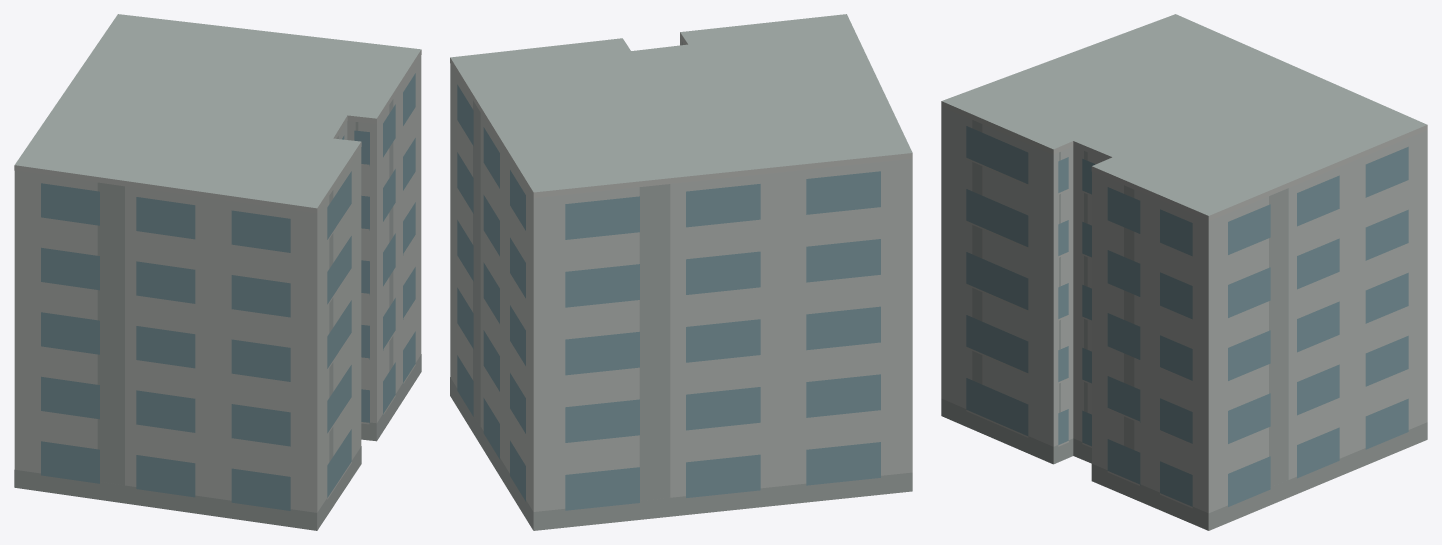
Rendered from survey-upis-32884482.glb.
The picture shows the model from 3 angles, left to right: view 1: azimuth 30°, elevation 25°; view 2: azimuth 150°, elevation 25°; view 3: azimuth 270°, elevation 25°; orthographic projection. The views are drawn at different scales.
Visible parts, largest first — view 1: survey-upis-32884482.tmp; view 2: survey-upis-32884482.tmp; view 3: survey-upis-32884482.tmp.
Part boxes in pixels (x1,y1,x2,y2): survey-upis-32884482.tmp: (14, 14, 421, 530); survey-upis-32884482.tmp: (450, 14, 912, 530); survey-upis-32884482.tmp: (941, 14, 1427, 530).
Size of the model in its own units: 19.67 by 14.3 by 20.01.
